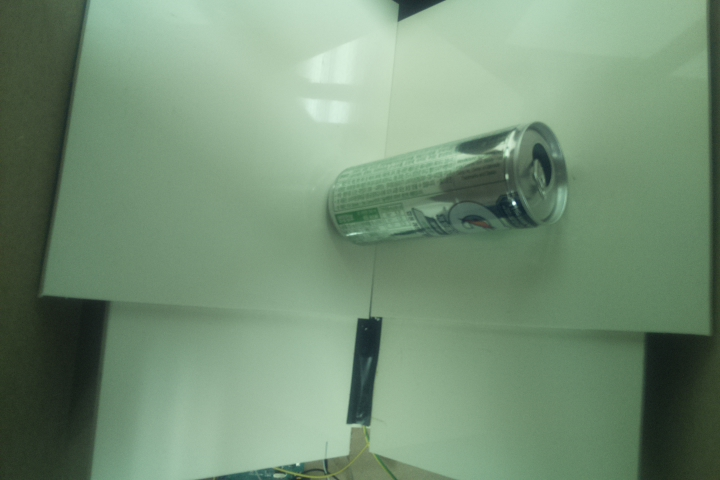can: (324, 119, 570, 244)
